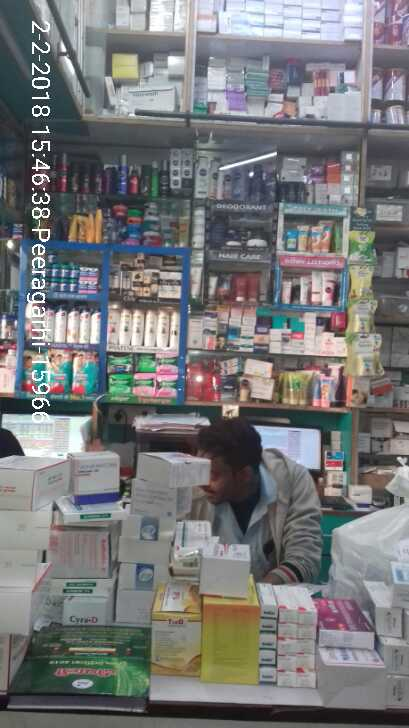vicks: (33, 252, 103, 294)
